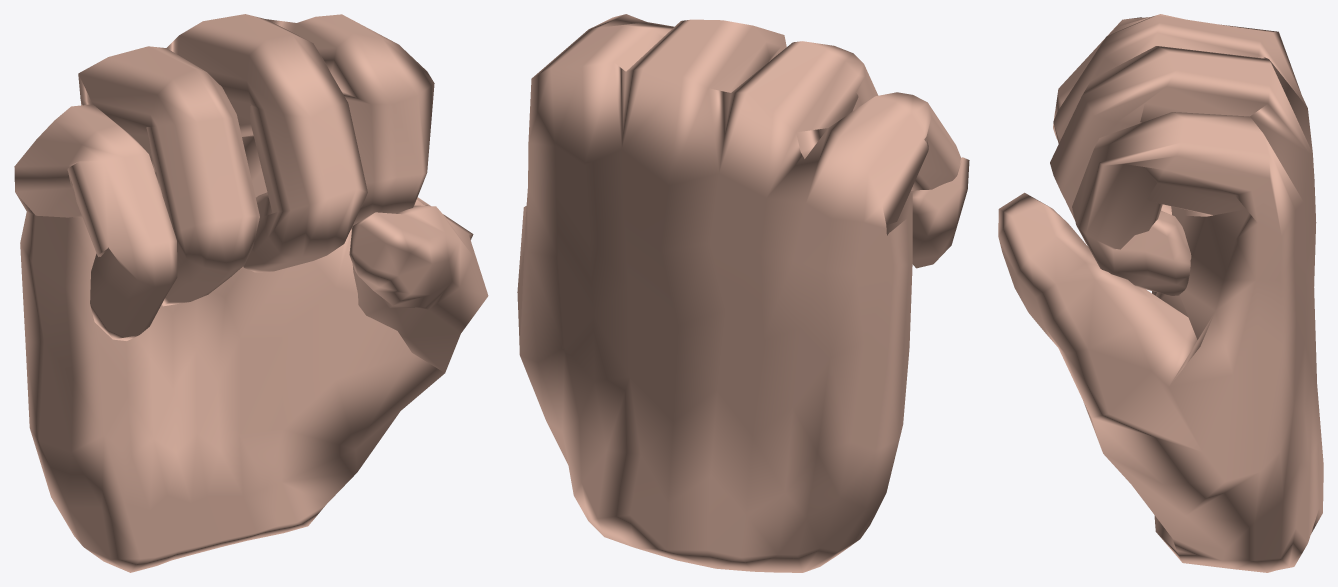
File: MAO_S.obj
The picture shows the model from 3 angles, left to right: view 1: azimuth 30°, elevation 25°; view 2: azimuth 150°, elevation 25°; view 3: azimuth 270°, elevation 25°; orthographic projection. The views are drawn at different scales.
Parts seen in each view (by area): view 1: mao_dir:mao_dir; view 2: mao_dir:mao_dir; view 3: mao_dir:mao_dir.
Boxes of the visible parts, x1=… form: mao_dir:mao_dir: x1=14, y1=14, x2=488, y2=572; mao_dir:mao_dir: x1=517, y1=14, x2=969, y2=572; mao_dir:mao_dir: x1=998, y1=14, x2=1323, y2=572.
Size of the model in its own units: 133 by 153 by 92.29.
